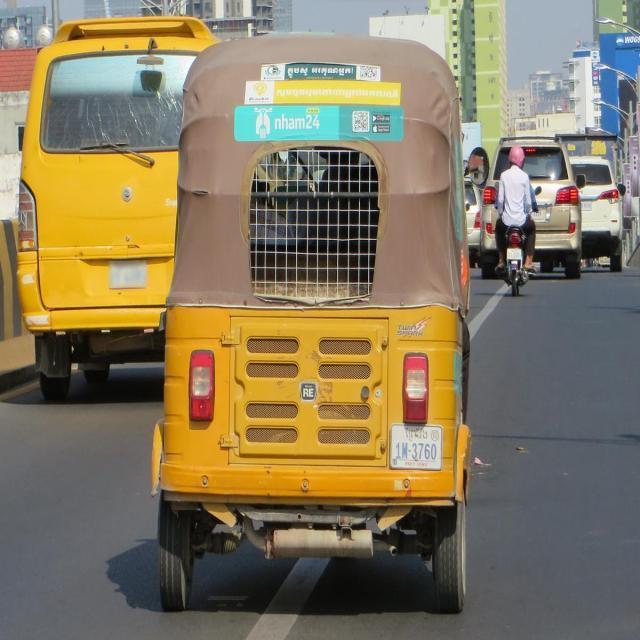Prey_Veng: (404, 424, 431, 441)
